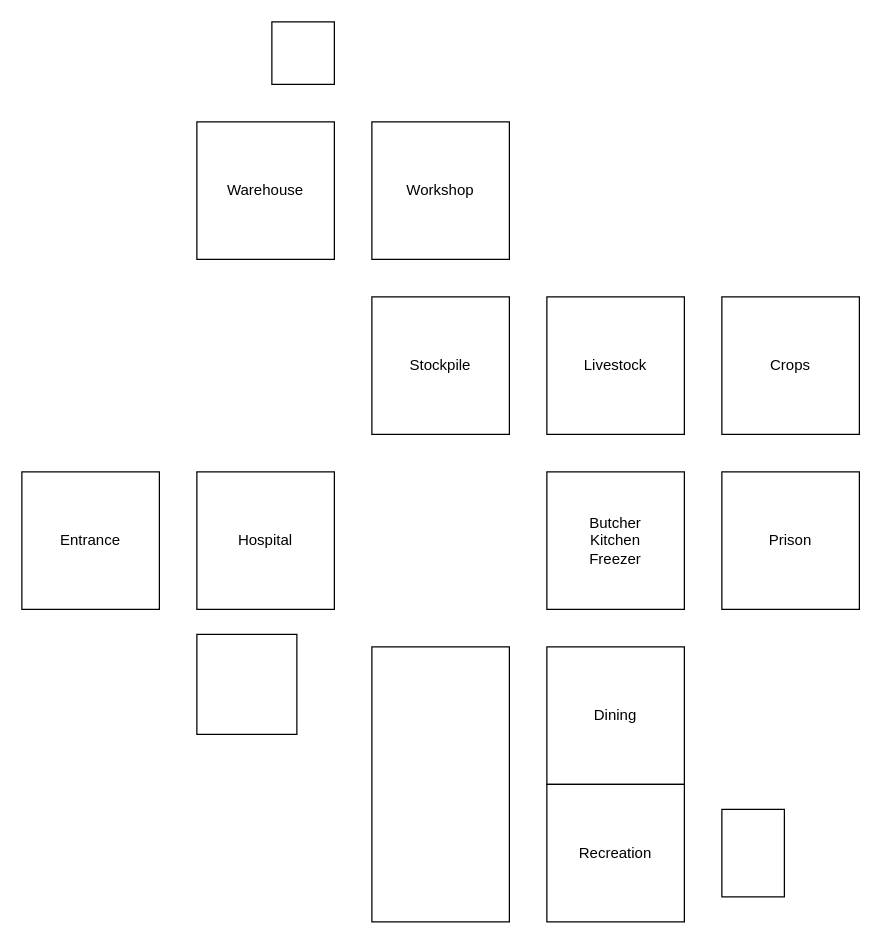
Some shapes in this 881 by 944 pixel diagram are drawn without their labels. Each missing label, with the centre of its shape:
Armory: the point at 246,683
Bedrooms: the point at 440,784
Explosives: the point at 302,52
Research: the point at 752,852
